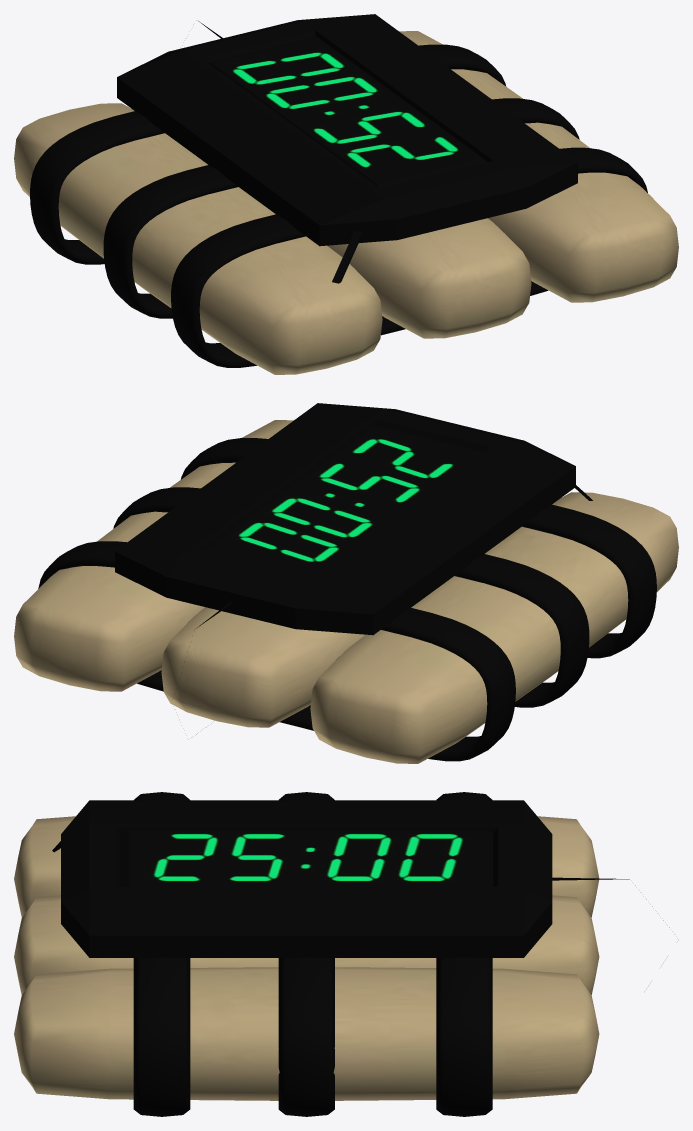
3 views of the same model, one above another, from view 1: azimuth 30°, elevation 25°; view 2: azimuth 150°, elevation 25°; view 3: azimuth 270°, elevation 25° (orthographic). The views are drawn at different scales.
Visible parts, largest first — view 1: polySurface1; view 2: polySurface1; view 3: polySurface1.
Part boxes in pixels (left/top/right/bottom): polySurface1: left=14, top=14, right=678, bottom=374; polySurface1: left=14, top=403, right=678, bottom=763; polySurface1: left=14, top=792, right=669, bottom=1116.
Size of the model in its own units: 3.49 by 1.17 by 4.06.
4 materials, 2 textured.
